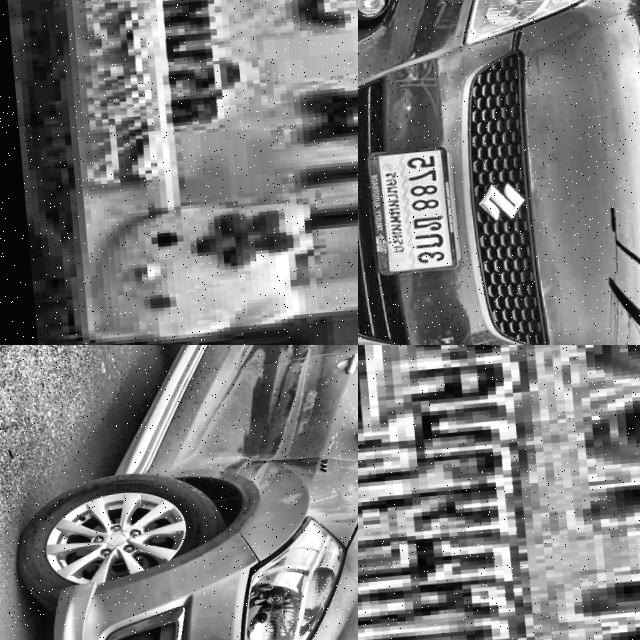license-plate: (0, 0, 358, 345), (358, 345, 640, 640), (359, 147, 454, 279)
